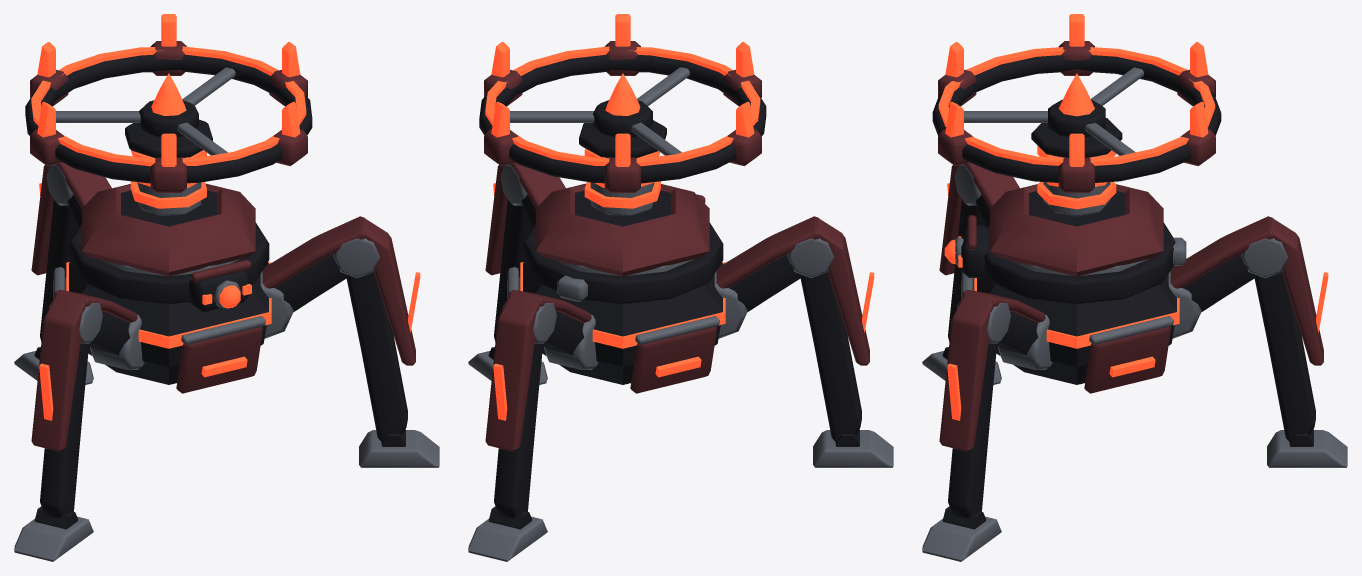
Rendered from enemy_shield.glb.
3 views of the same model, side by side, from view 1: azimuth 30°, elevation 25°; view 2: azimuth 150°, elevation 25°; view 3: azimuth 270°, elevation 25° (orthographic).
Parts seen in each view (by area): view 1: body, spin_1, leg_2_lower, leg_3_lower, head, leg_3_upper, leg_2_upper, leg_1_lower, leg_2_toe, leg_3_toe, leg_1_upper, leg_1_toe; view 2: body, spin_1, leg_1_lower, leg_2_lower, leg_2_upper, head, leg_1_upper, leg_3_lower, leg_1_toe, leg_2_toe, leg_3_upper, leg_3_toe; view 3: body, spin_1, leg_3_lower, leg_1_lower, head, leg_1_upper, leg_3_upper, leg_3_toe, leg_1_toe, leg_2_upper, leg_2_lower, leg_2_toe.
Boxes of the visible parts, x1,y1,x2,y2 form: body: (53,119,271,393); spin_1: (25,14,312,192); leg_2_lower: (31,291,88,518); leg_3_lower: (346,217,420,441); head: (68,222,269,312); leg_3_upper: (260,216,379,338); leg_2_upper: (48,289,144,369); leg_1_lower: (31,165,77,341); leg_2_toe: (14,506,93,561); leg_3_toe: (359,429,439,467); leg_1_upper: (46,162,111,227); leg_1_toe: (14,347,93,384); body: (507,120,725,393); spin_1: (479,14,766,192); leg_1_lower: (485,291,542,518); leg_2_lower: (800,217,874,441); leg_2_upper: (714,216,833,338); head: (522,194,723,304); leg_1_upper: (502,289,598,369); leg_3_lower: (485,165,531,341); leg_1_toe: (468,506,547,561); leg_2_toe: (813,429,893,467); leg_3_upper: (500,163,565,227); leg_3_toe: (468,347,547,384); body: (961,118,1179,393); spin_1: (932,14,1221,192); leg_3_lower: (939,291,996,518); leg_1_lower: (1254,217,1328,441); head: (944,215,1186,304); leg_1_upper: (1168,216,1287,338); leg_3_upper: (956,289,1052,369); leg_3_toe: (922,506,1001,561); leg_1_toe: (1267,429,1347,467); leg_2_upper: (954,162,1019,227); leg_2_lower: (939,165,984,341); leg_2_toe: (922,347,1001,384).
Size of the model in its own units: 1.62 by 1.4 by 1.4.
